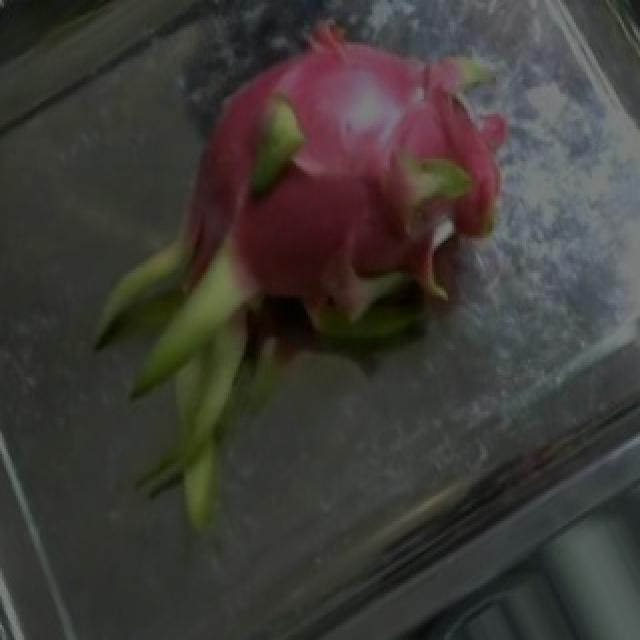fruit: (144, 0, 582, 434)
